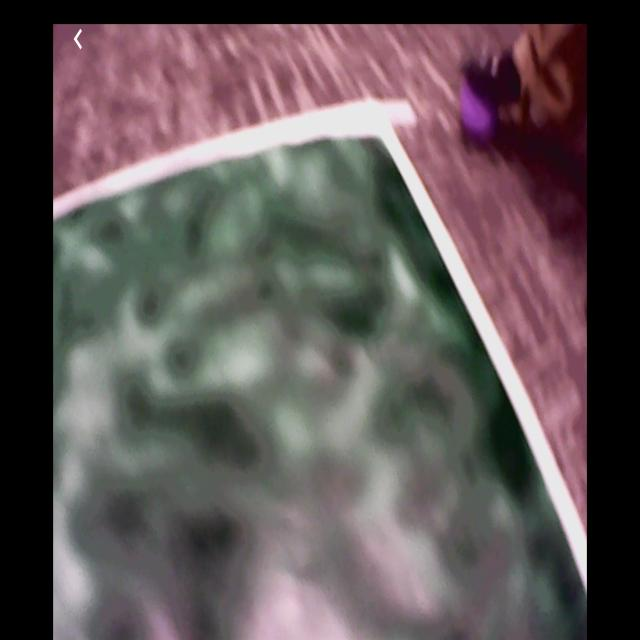ball: (458, 81, 502, 143)
